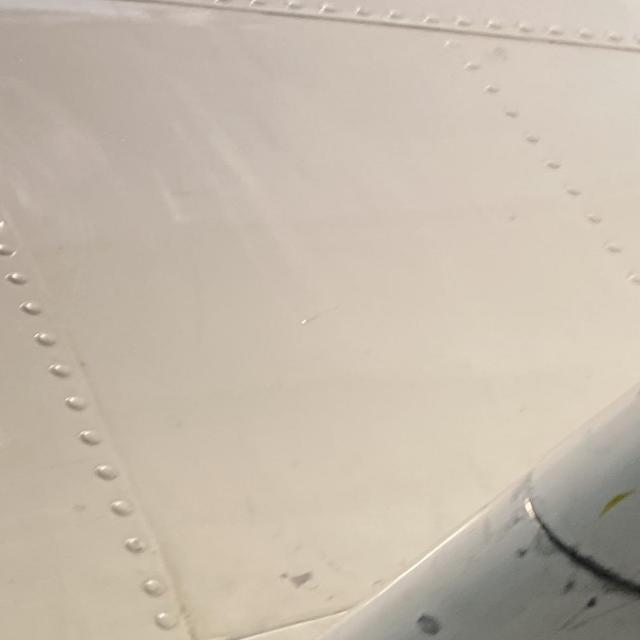Paint-off: (416, 613, 443, 635)
